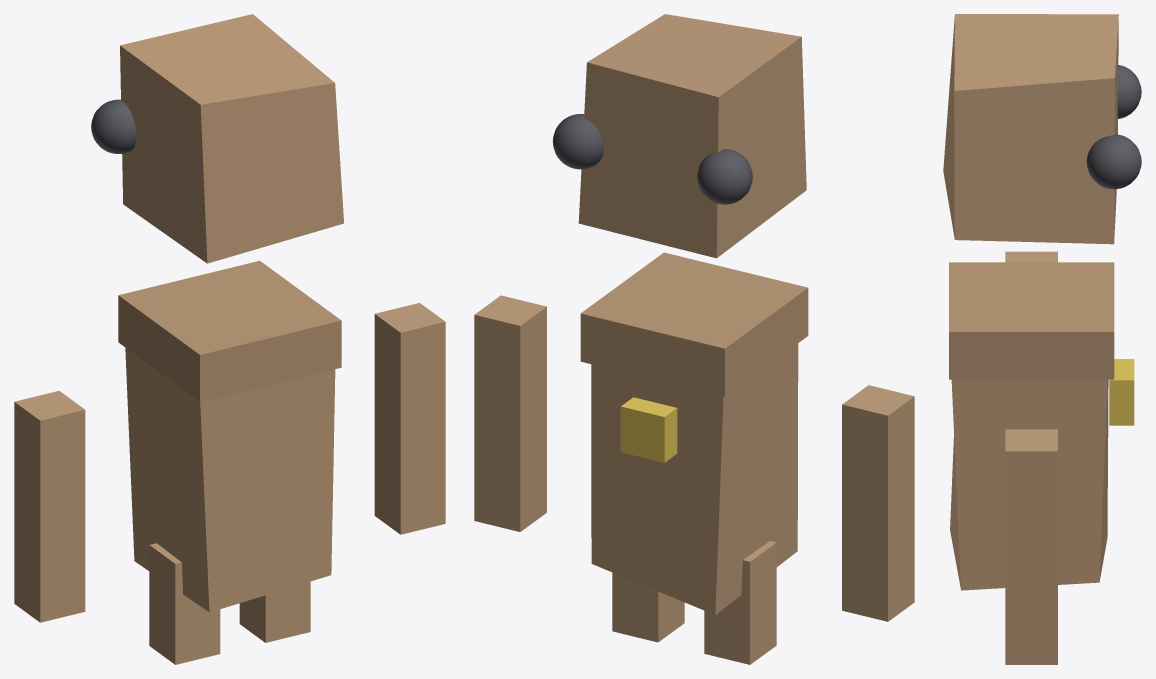
File: clay_chest_character.glb
The picture shows the model from 3 angles, left to right: view 1: azimuth 30°, elevation 25°; view 2: azimuth 150°, elevation 25°; view 3: azimuth 270°, elevation 25°; orthographic projection. The views are drawn at different scales.
Parts seen in each view (by area): view 1: latch; view 2: latch; view 3: latch.
Part boxes in pixels (x1,y1,x2,y2): latch: (14,14,445,664); latch: (474,14,914,664); latch: (943,14,1141,664).
Bounding box in the file's own units: 1.89 × 2.58 × 0.7928.
